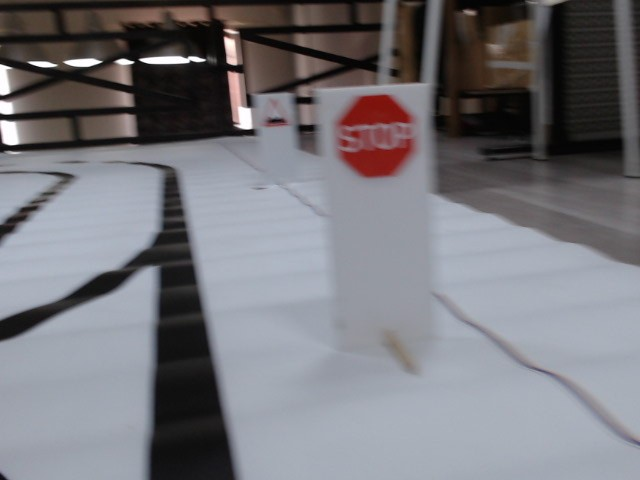Nerov: (259, 98, 291, 129)
Stop: (332, 96, 419, 175)
